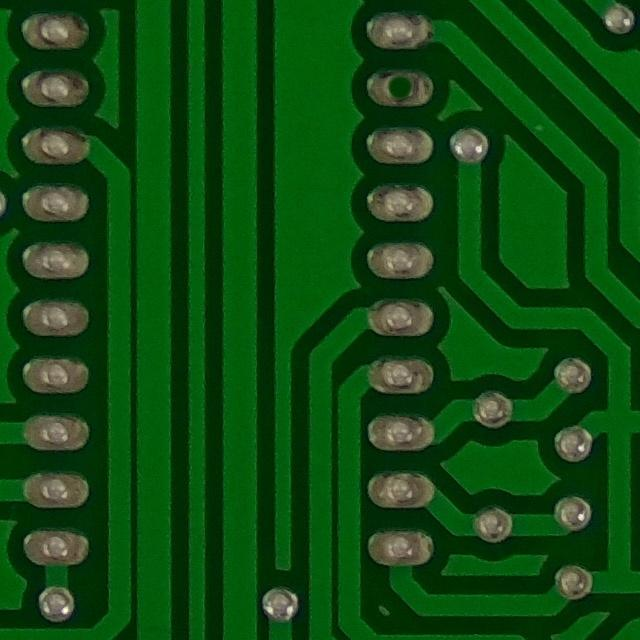missing_hole: (370, 57, 431, 113)
